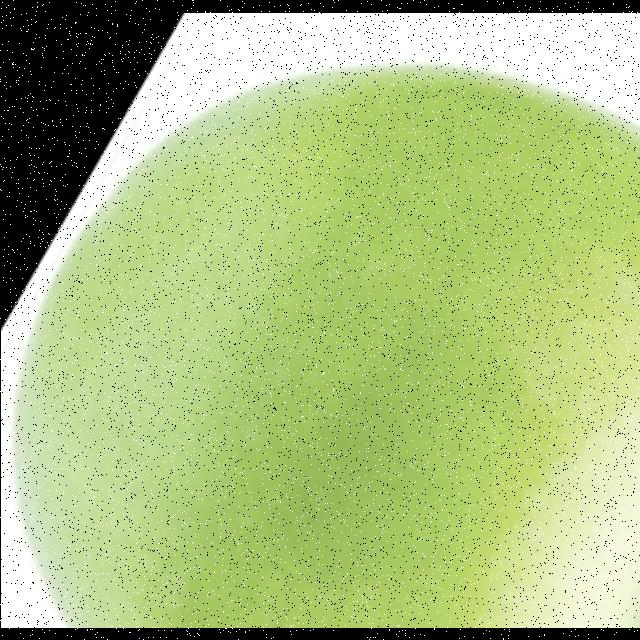Apel Segar: (10, 85, 640, 628)
